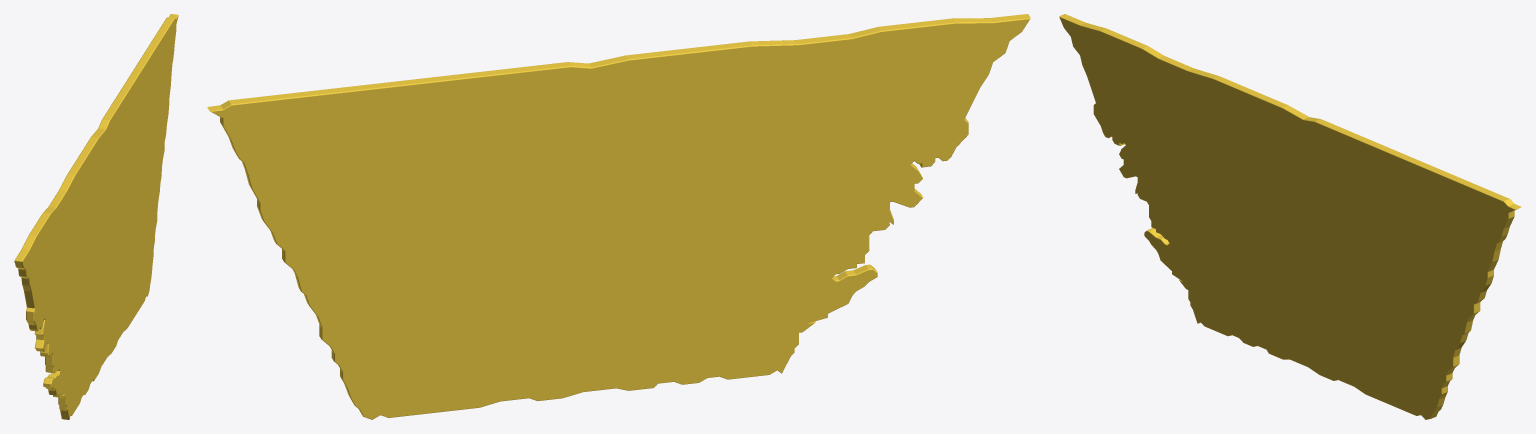
File: alberta.gltf
3 renders of one model, left to right at view 1: azimuth 30°, elevation 25°; view 2: azimuth 150°, elevation 25°; view 3: azimuth 270°, elevation 25°, orthographic. The views are drawn at different scales.
Bounding box in the file's own units: 59.8 × 35.98 × 59.8.
